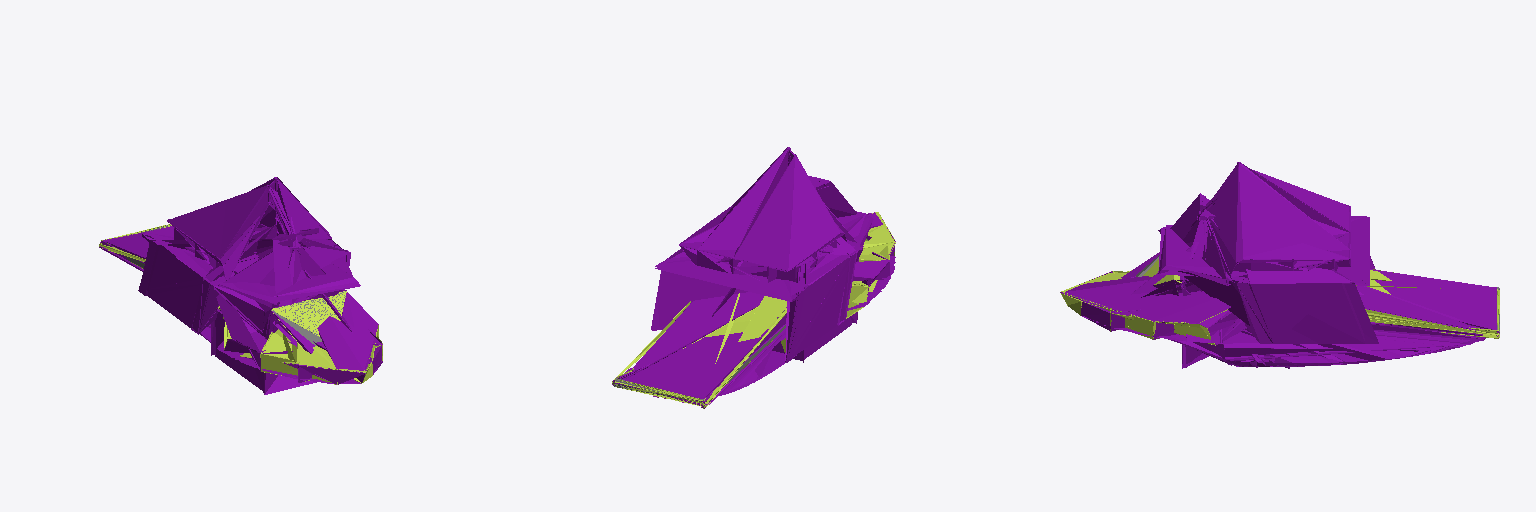
Rendered from Boat.obj.
The picture shows the model from 3 angles: view 1: azimuth 30°, elevation 25°; view 2: azimuth 150°, elevation 25°; view 3: azimuth 270°, elevation 25°; orthographic projection.
Visible parts, largest first — view 1: Circle01, Curve01, Curve05; view 2: Circle01, Curve01, Curve03; view 3: Circle01, Curve01, Curve03.
Boxes of the visible parts, x1,y1,x2,y2 form: Circle01: [99, 177, 382, 394]; Curve01: [99, 224, 382, 384]; Curve05: [105, 225, 345, 347]; Circle01: [612, 147, 895, 408]; Curve01: [612, 212, 895, 407]; Curve03: [612, 293, 786, 408]; Circle01: [1060, 162, 1499, 368]; Curve01: [1061, 260, 1499, 345]; Curve03: [1061, 259, 1499, 338].
Size of the model in its own units: 235 by 305 by 651.